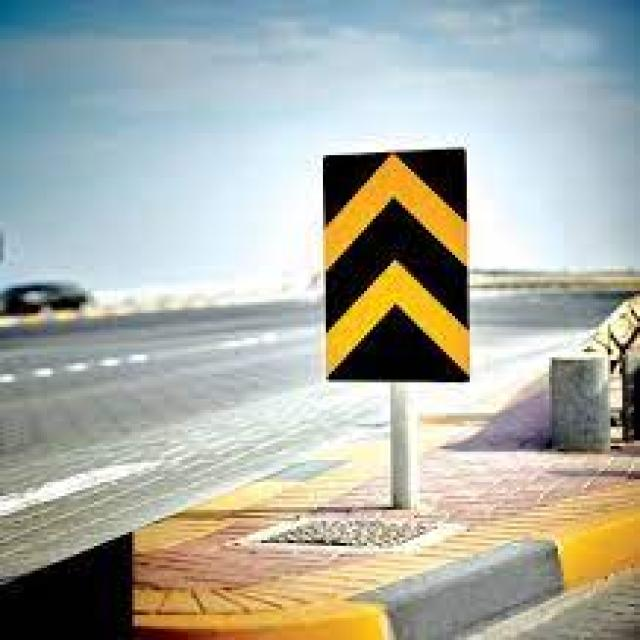OBJECT_HAZARD: (323, 149, 471, 384)
